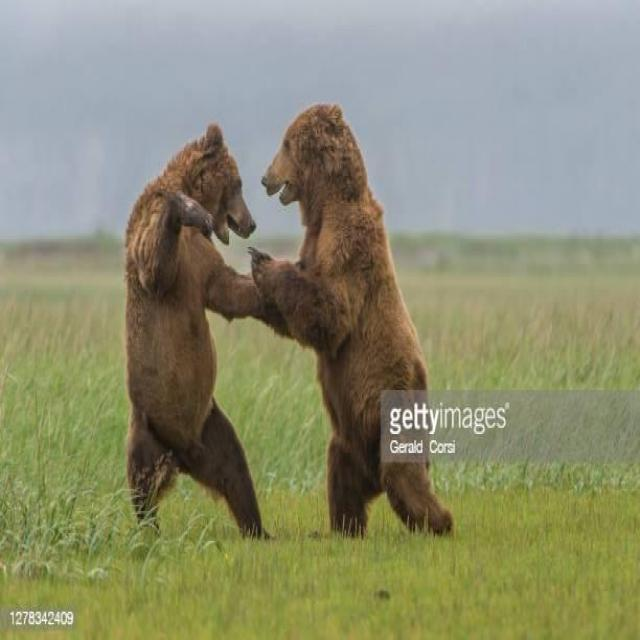Bear: (199, 104, 452, 541), (124, 123, 266, 541)
